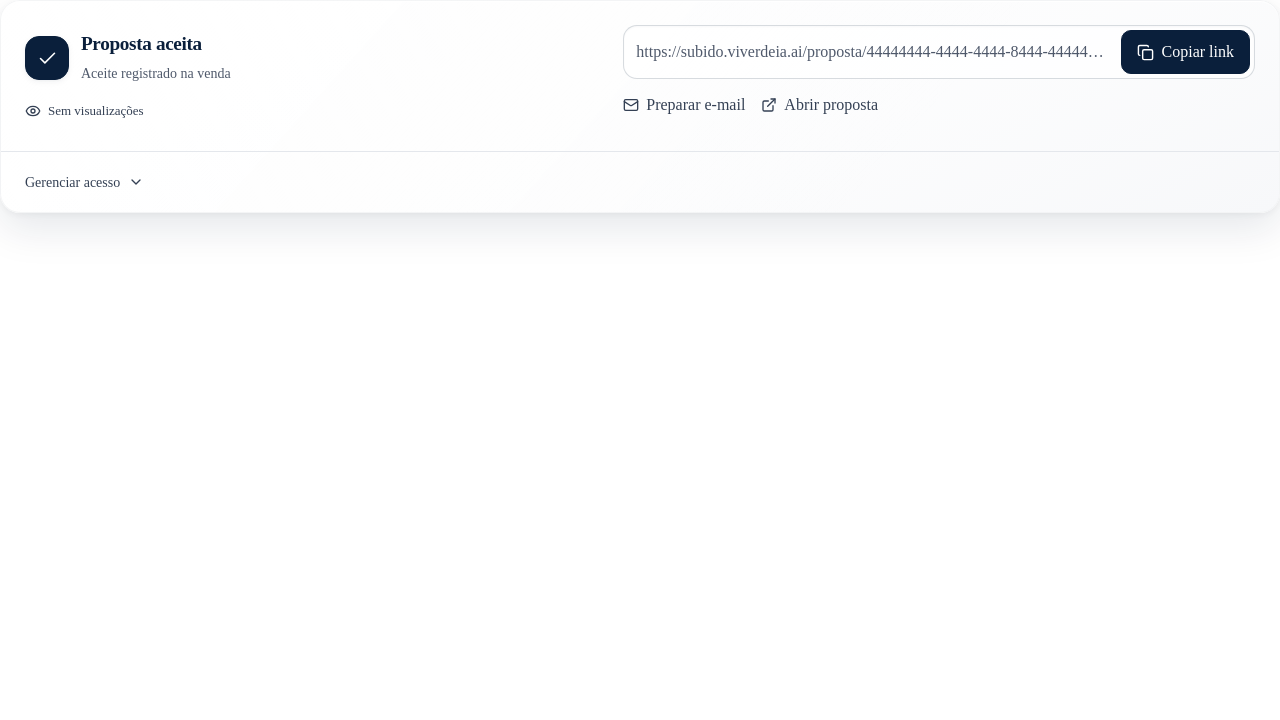
Test: CompartilharProposta › retira as ações de compartilhamento quando o link é desativado sem mudar a decisão
The image size is (1280, 720).
Click the heading "Gerenciar acesso". click: (85, 182)
box: x1=25 y1=174 x2=144 y2=190
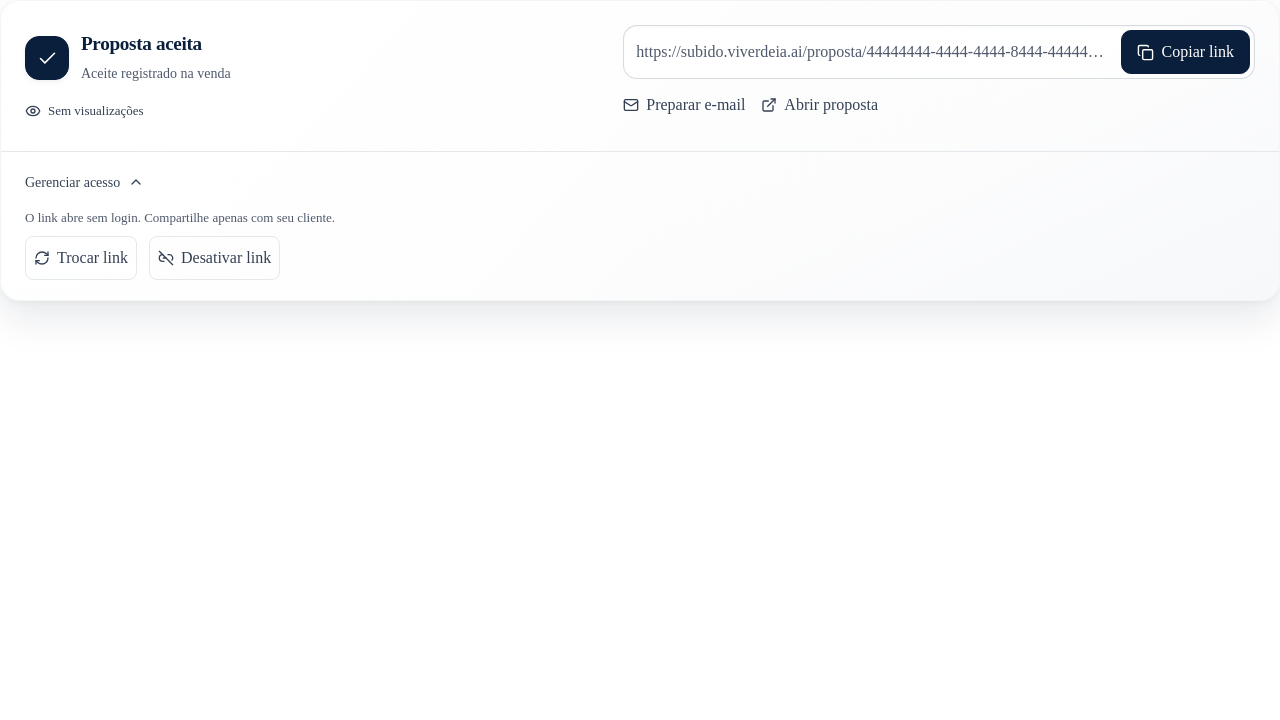
Click the button "Desativar link". click: (215, 258)
box: x1=149 y1=236 x2=280 y2=280
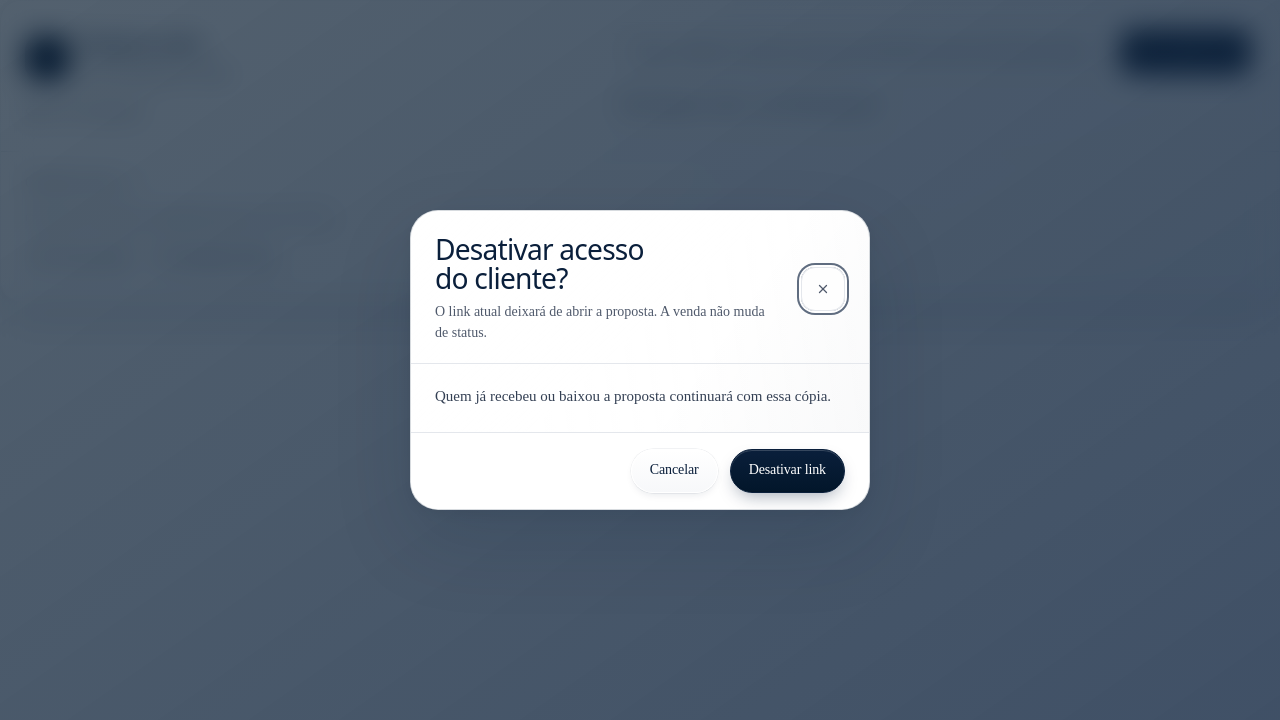
Click the button "Desativar link". click: (787, 471)
box: x1=730 y1=449 x2=845 y2=493
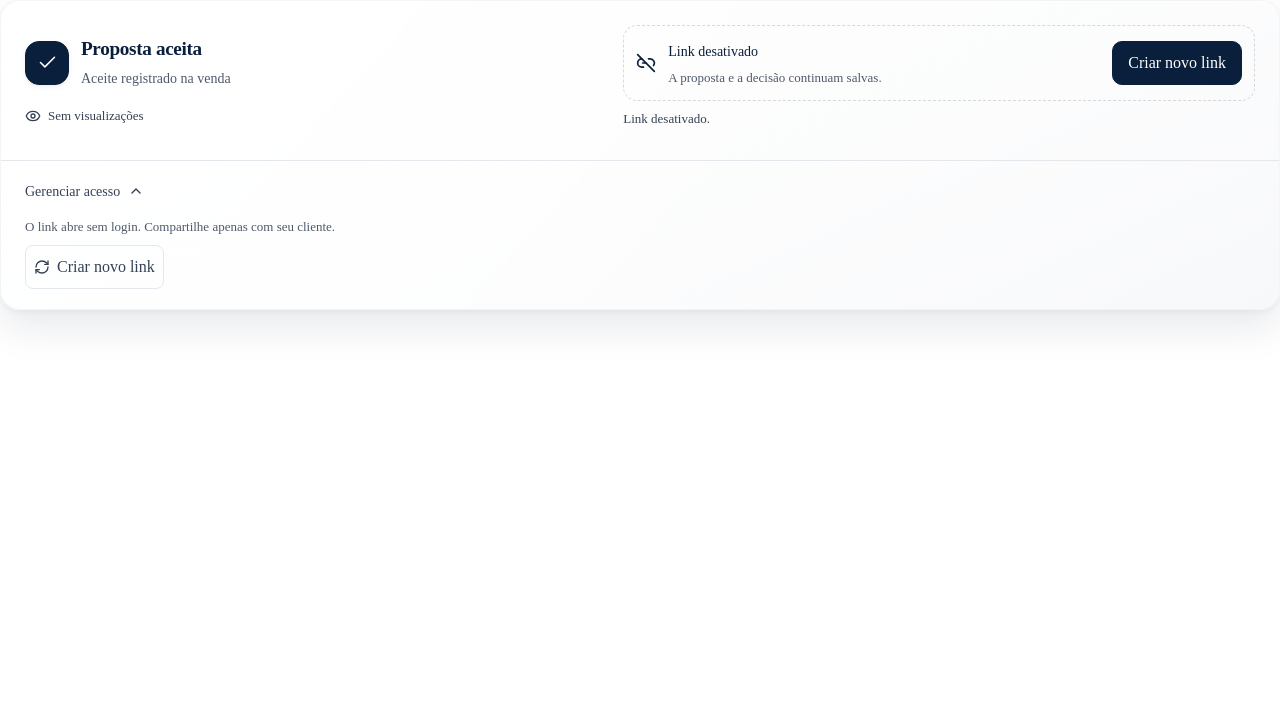
Expected: the heading "Proposta aceita" is shown, x1=81 y1=38 x2=202 y2=59
Now the text "Link desativado" is shown, box x1=668 y1=44 x2=758 y2=59
Now the link "Preparar e-mail" is gone
